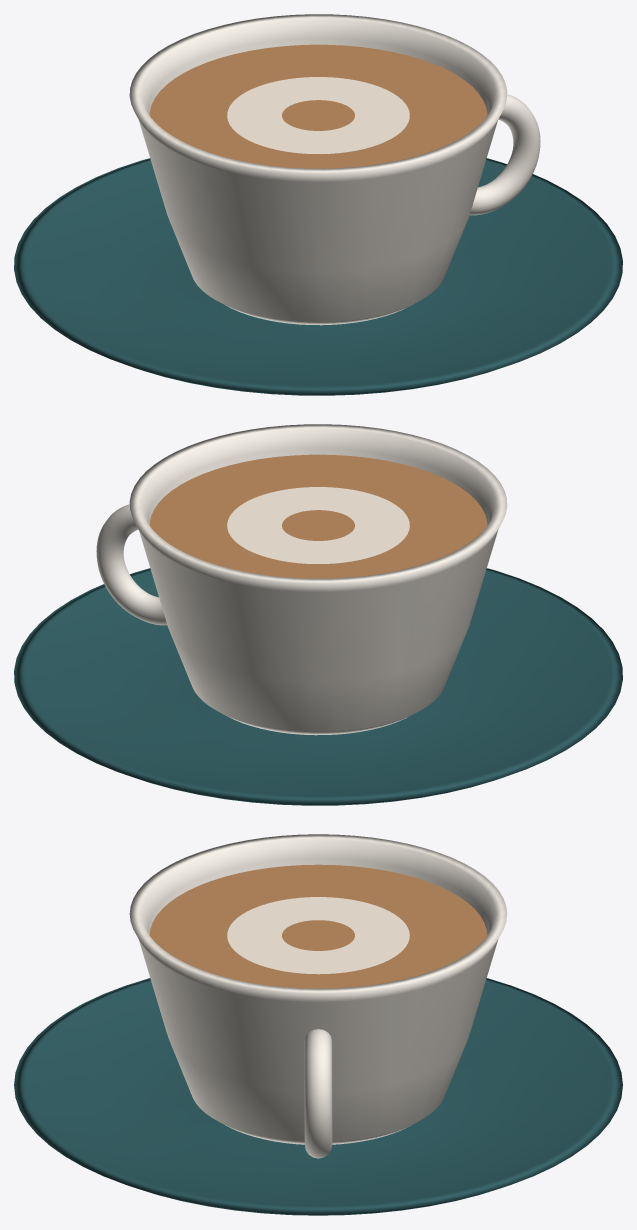
File: flat-white.glb
The picture shows the model from 3 angles, top to bottom: view 1: azimuth 30°, elevation 25°; view 2: azimuth 150°, elevation 25°; view 3: azimuth 270°, elevation 25°; orthographic projection.
Parts seen in each view (by area): view 1: Saucer, Cup, Coffee, Foam, Handle; view 2: Saucer, Cup, Coffee, Foam, Handle; view 3: Saucer, Cup, Coffee, Foam, Handle.
Part boxes in pixels (x1,y1,x2,y2): Saucer: (14,158,622,395); Cup: (129,14,507,325); Coffee: (149,44,487,168); Foam: (227,77,409,154); Handle: (469,94,540,215); Saucer: (14,568,622,805); Cup: (129,424,507,735); Coffee: (149,454,487,578); Foam: (227,487,409,563); Handle: (96,504,167,625); Saucer: (14,978,622,1215); Cup: (129,834,507,1144); Coffee: (149,864,487,988); Foam: (227,897,409,974); Handle: (304,1029,332,1158).
Size of the model in its own units: 2 by 0.7201 by 2.
